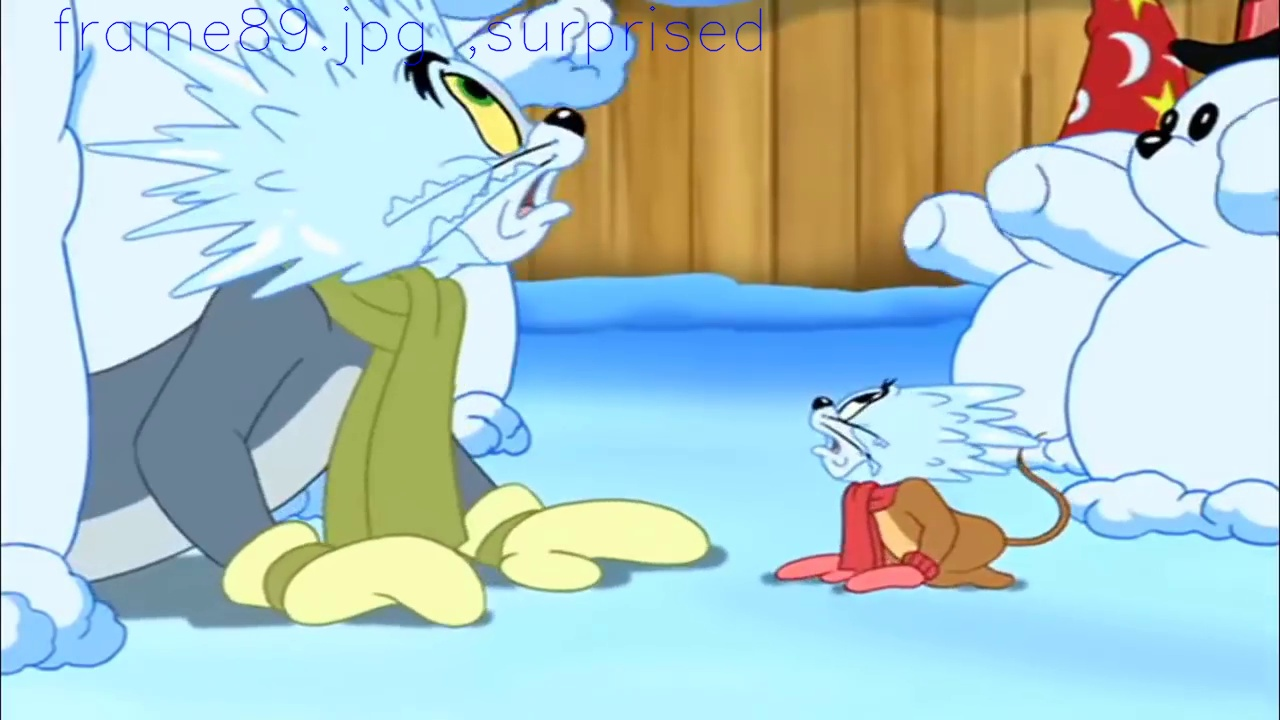sad: (394, 51, 579, 261), (803, 383, 907, 486)
